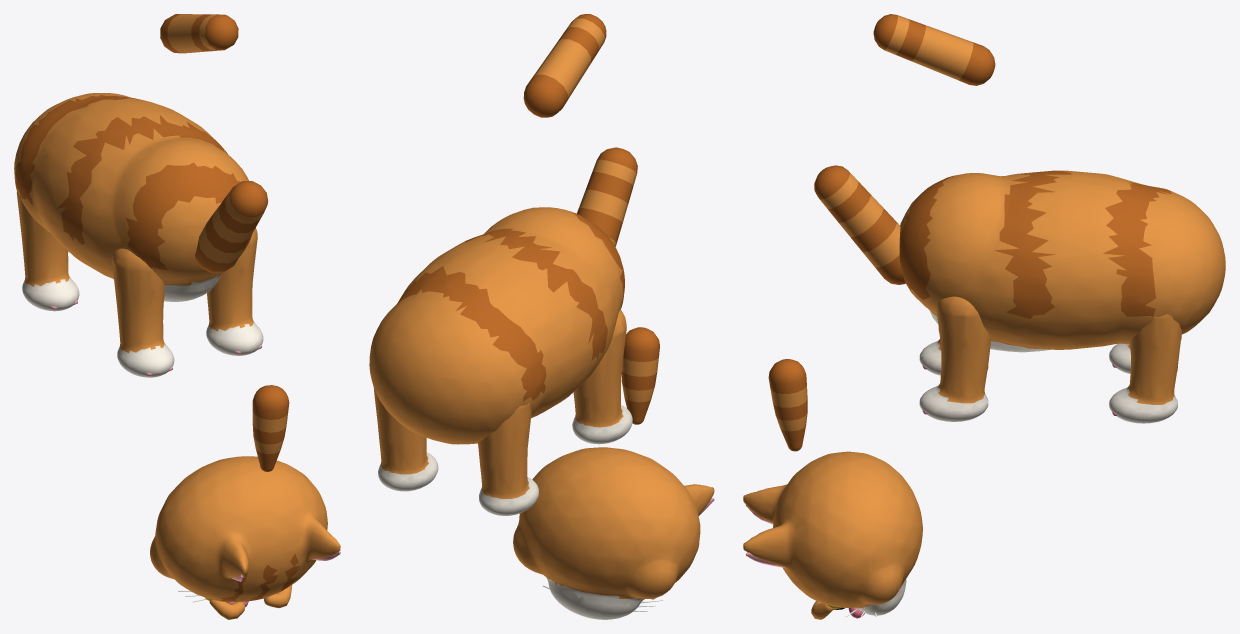
Rendered from cat.fbx.
3 renders of one model, left to right at view 1: azimuth 30°, elevation 25°; view 2: azimuth 150°, elevation 25°; view 3: azimuth 270°, elevation 25°, orthographic. The views are drawn at different scales.
Parts seen in each view (by area): view 1: body, head, legFR, legFL, legBR, tail1, tail2, tail3; view 2: body, head, legBR, tail2, legFR, tail1, legBL, tail3; view 3: body, head, legFL, legBL, tail1, tail2, tail3.
Boxes of the visible parts, bbox=[...] form: body: bbox=[14, 93, 252, 301]; head: bbox=[150, 456, 340, 619]; legFR: bbox=[111, 248, 174, 377]; legFL: bbox=[206, 228, 263, 355]; legBR: bbox=[16, 190, 79, 311]; tail1: bbox=[195, 181, 268, 273]; tail2: bbox=[160, 14, 238, 53]; tail3: bbox=[252, 385, 289, 471]; body: bbox=[369, 207, 624, 444]; head: bbox=[513, 447, 714, 619]; legBR: bbox=[478, 403, 538, 515]; tail2: bbox=[523, 14, 606, 117]; legFR: bbox=[572, 309, 632, 444]; tail1: bbox=[576, 147, 637, 246]; legBL: bbox=[373, 387, 438, 491]; tail3: bbox=[621, 327, 659, 424]; body: bbox=[899, 170, 1225, 352]; head: bbox=[743, 451, 922, 619]; legFL: bbox=[919, 296, 991, 421]; legBL: bbox=[1109, 314, 1181, 423]; tail1: bbox=[814, 165, 905, 284]; tail2: bbox=[873, 14, 995, 85]; tail3: bbox=[768, 359, 807, 451].
Bounding box in the file's own units: 1.03 × 3.5 × 2.55.
